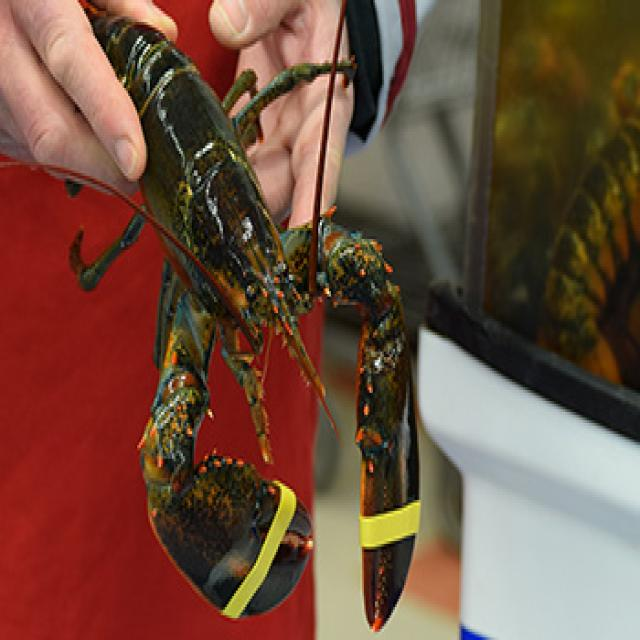Lobster: (70, 6, 420, 630)
